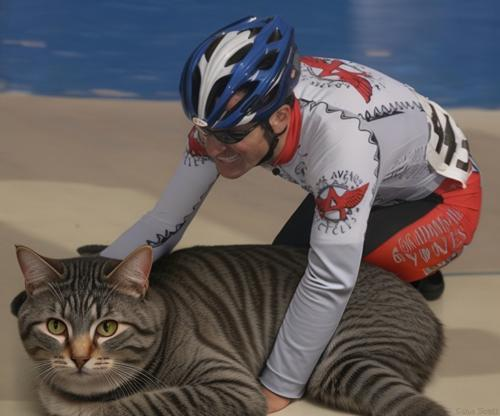cat: (13, 244, 450, 416)
person: (28, 12, 479, 406)
person/hand: (162, 364, 228, 412), (14, 285, 73, 338)
person/head: (178, 15, 302, 180)
